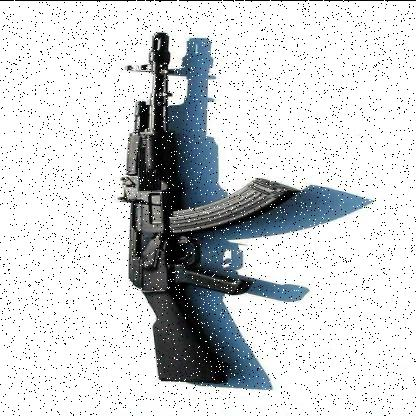rifle: (99, 28, 304, 391)
